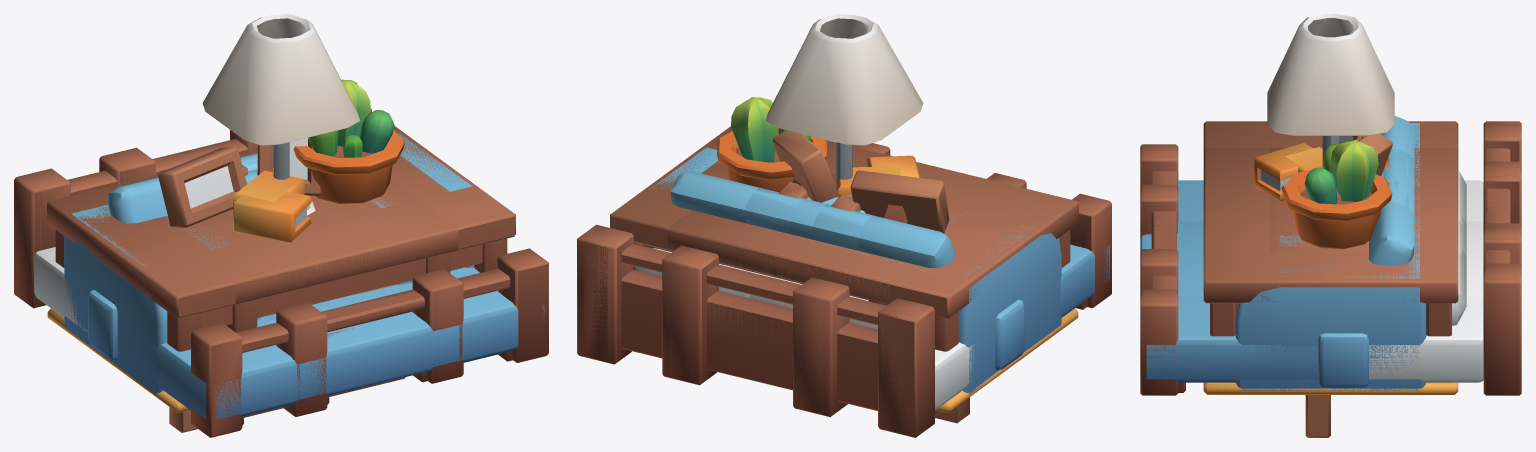
The model's file is furniture.glb.
3 views of the same model, side by side, from view 1: azimuth 30°, elevation 25°; view 2: azimuth 150°, elevation 25°; view 3: azimuth 270°, elevation 25° (orthographic). The views are drawn at different scales.
Parts seen in each view (by area): view 1: table_medium_long, bed_double_A, bed_double_B, lamp_standing, cabinet_medium_decorated, table_medium, couch, bed_single_B, bed_single_A, cabinet_small_decorated, rug_rectangle_A, pictureframe_large_B (+1 smaller); view 2: bed_double_A, bed_double_B, table_medium_long, couch, lamp_standing, bed_single_A, cabinet_medium_decorated, bed_single_B, table_medium, armchair, cabinet_small_decorated, rug_rectangle_A (+1 smaller); view 3: table_medium_long, bed_double_A, couch, bed_double_B, lamp_standing, table_medium, cabinet_medium_decorated, bed_single_B, bed_single_A, cabinet_small_decorated, cabinet_medium, rug_rectangle_A (+3 smaller).
Boxes of the visible parts, <box> form: table_medium_long: <box>47,126,515,351</box>; bed_double_A: <box>28,139,544,425</box>; bed_double_B: <box>14,109,548,437</box>; lamp_standing: <box>202,14,360,179</box>; cabinet_medium_decorated: <box>158,79,404,227</box>; table_medium: <box>106,150,458,332</box>; couch: <box>64,133,474,394</box>; bed_single_B: <box>99,139,463,416</box>; bed_single_A: <box>108,130,459,404</box>; cabinet_small_decorated: <box>233,137,322,242</box>; rug_rectangle_A: <box>47,308,189,412</box>; pictureframe_large_B: <box>169,377,405,432</box>; bed_double_A: <box>583,226,1109,434</box>; bed_double_B: <box>577,193,1111,437</box>; table_medium_long: <box>610,126,1078,351</box>; couch: <box>649,147,1061,394</box>; lamp_standing: <box>765,14,923,196</box>; bed_single_A: <box>669,247,841,414</box>; cabinet_medium_decorated: <box>717,97,949,233</box>; bed_single_B: <box>662,143,1026,416</box>; table_medium: <box>667,140,992,305</box>; armchair: <box>744,187,966,260</box>; cabinet_small_decorated: <box>772,131,919,202</box>; rug_rectangle_A: <box>935,308,1078,412</box>; table_medium_long: <box>1203,121,1458,336</box>; bed_double_A: <box>1140,124,1521,392</box>; couch: <box>1235,116,1426,390</box>; bed_double_B: <box>1140,121,1521,395</box>; lamp_standing: <box>1267,14,1394,166</box>; table_medium: <box>1203,148,1458,254</box>; cabinet_medium_decorated: <box>1281,136,1392,248</box>; bed_single_B: <box>1140,161,1521,297</box>; bed_single_A: <box>1140,165,1521,295</box>; cabinet_small_decorated: <box>1254,134,1392,200</box>; cabinet_medium: <box>1270,148,1368,253</box>; rug_rectangle_A: <box>1203,382,1458,394</box>.
Bounding box in the file's own units: 3.1 × 3.12 × 3.
Materials: 1 (1 with a texture image).
